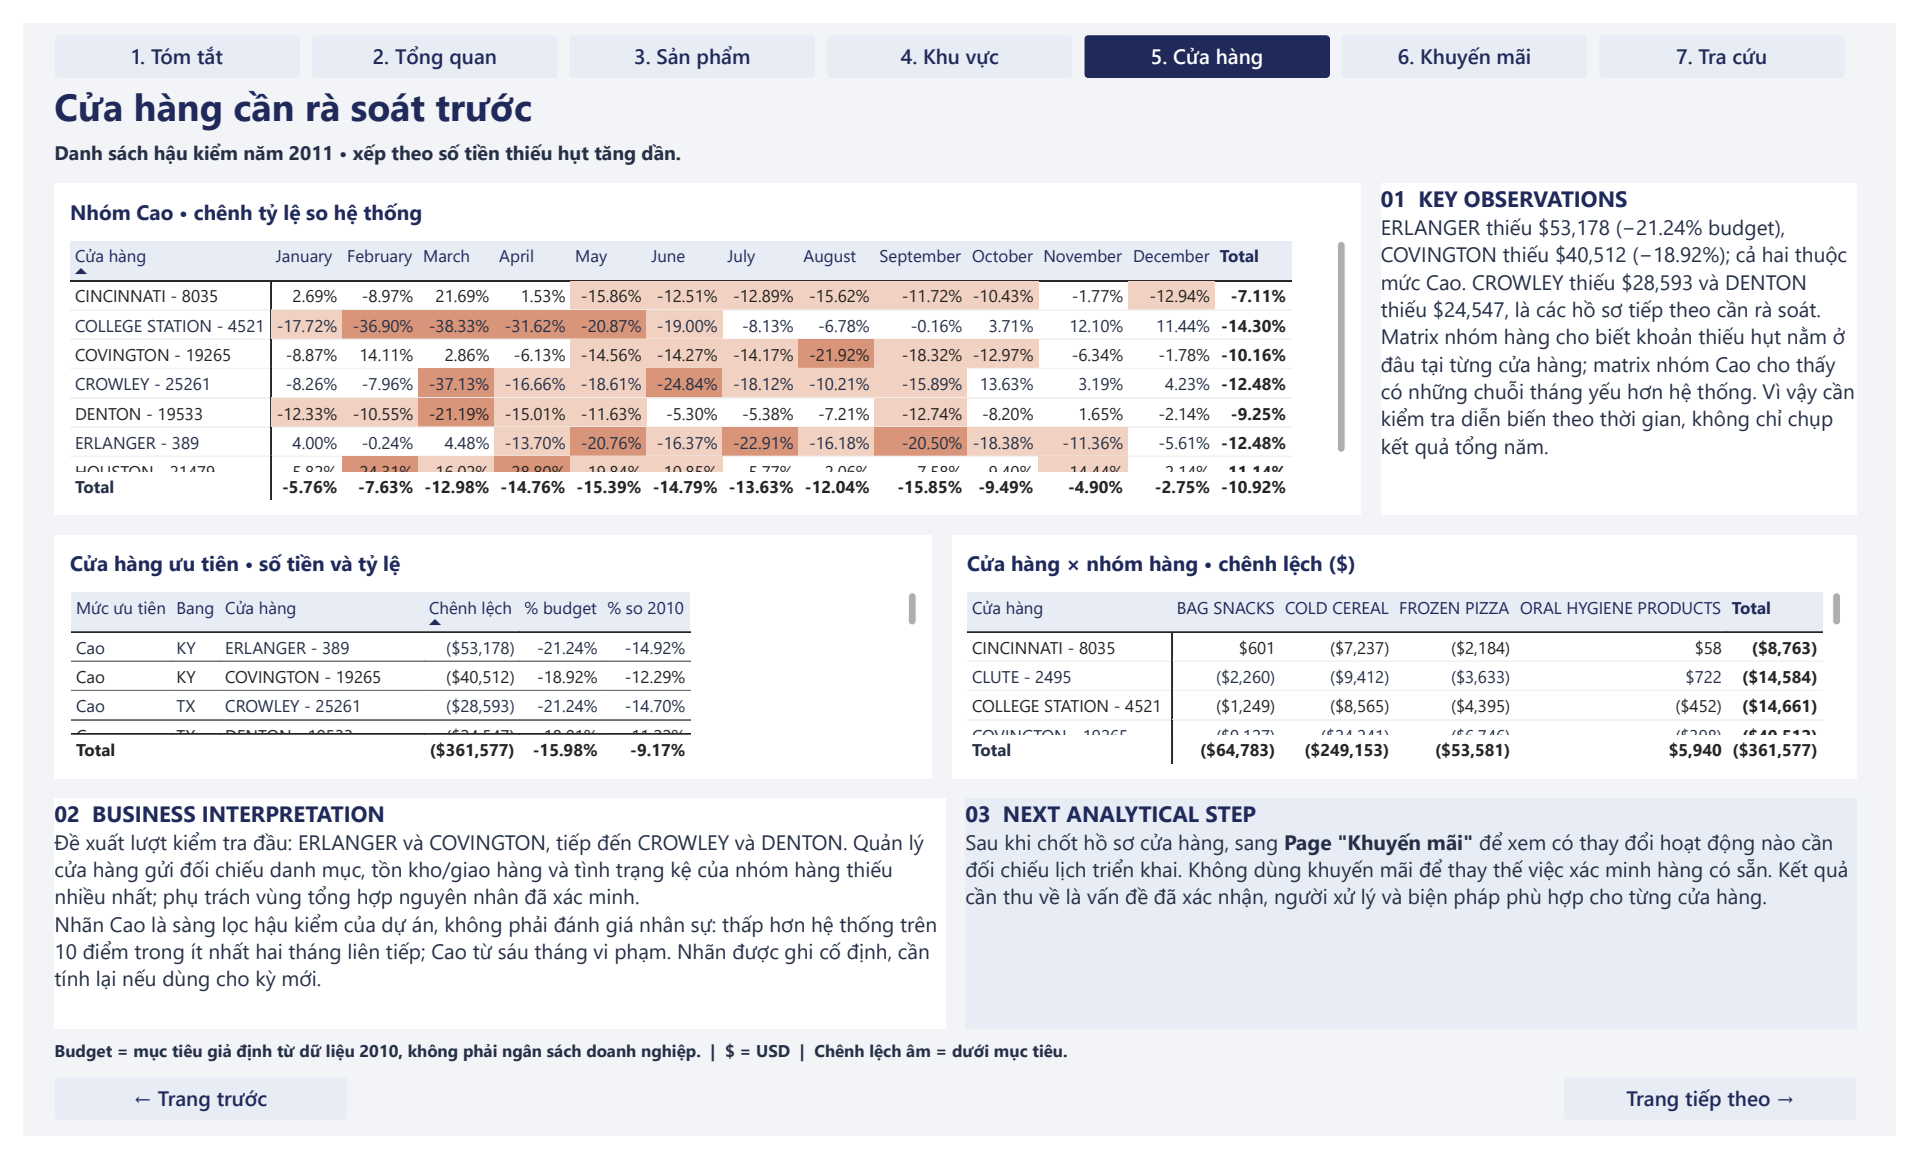

Layout of this report page (visuals, bound fields, positions):
{"tool":"powerbi","page":{"name":"Cửa hàng","canvas":[1920,1140],"ordinal":4},"visuals":[{"type":"textbox","box":[32,58,1848,60],"z":0},{"type":"textbox","box":[32,794,914,236],"z":1000},{"type":"textbox","box":[32,118,1848,34],"z":2000},{"type":"pivotTable","title":"Nhóm Cao • chênh tỷ lệ so hệ thống","fields":{"Columns":["Dim_Date.Month Name"],"Rows":["Dim_Store.Store_Label"],"Values":["Budget.Gap vs System"]},"box":[32,164,1340,340],"z":3000},{"type":"pivotTable","title":"Cửa hàng × nhóm hàng • chênh lệch ($)","fields":{"Columns":["Dim_Category.CATEGORY"],"Rows":["Dim_Store.Store_Label"],"Values":["Fact_Transactions.Variance"]},"box":[952,524,928,250],"z":4000},{"type":"textbox","box":[966,794,914,236],"z":5000},{"type":"textbox","box":[32,1040,1848,30],"z":6000},{"type":"textbox","box":[1392,164,488,340],"z":7000},{"type":"tableEx","title":"Cửa hàng ưu tiên • số tiền và tỷ lệ","fields":{"Values":["Dim_Store.Muc_Uu_Tien","Dim_Store.ADDRESS_STATE_PROV_CODE","Dim_Store.Store_Label","Fact_Transactions.Variance","Fact_Transactions.Variance %","Budget.YoY %"]},"box":[32,524,900,250],"z":8000},{"type":"actionButton","box":[560,12,252,44],"z":9000},{"type":"actionButton","box":[1616,12,252,44],"z":10000},{"type":"actionButton","box":[32,1080,300,44],"z":11000},{"type":"actionButton","box":[32,12,252,44],"z":12000},{"type":"actionButton","box":[1088,12,252,44],"z":13000},{"type":"actionButton","box":[296,12,252,44],"z":14000},{"type":"actionButton","box":[824,12,252,44],"z":15000},{"type":"actionButton","box":[1352,12,252,44],"z":16000},{"type":"actionButton","box":[1580,1080,300,44],"z":17000}]}

Visuals, with their boxes in screenshot pixels (x1, y1, x2, y2), scaled from the page's 1920x1140 canvas onto the 1919x1159 screenshot:
textbox: [32, 59, 1879, 120]
textbox: [32, 807, 946, 1047]
textbox: [32, 120, 1879, 155]
"Nhóm Cao • chênh tỷ lệ so hệ thống" pivotTable: [32, 167, 1371, 512]
"Cửa hàng × nhóm hàng • chênh lệch ($)" pivotTable: [952, 533, 1879, 787]
textbox: [965, 807, 1879, 1047]
textbox: [32, 1057, 1879, 1088]
textbox: [1391, 167, 1879, 512]
"Cửa hàng ưu tiên • số tiền và tỷ lệ" tableEx: [32, 533, 932, 787]
actionButton: [560, 12, 812, 57]
actionButton: [1615, 12, 1867, 57]
actionButton: [32, 1098, 332, 1143]
actionButton: [32, 12, 284, 57]
actionButton: [1087, 12, 1339, 57]
actionButton: [296, 12, 548, 57]
actionButton: [824, 12, 1075, 57]
actionButton: [1351, 12, 1603, 57]
actionButton: [1579, 1098, 1879, 1143]
